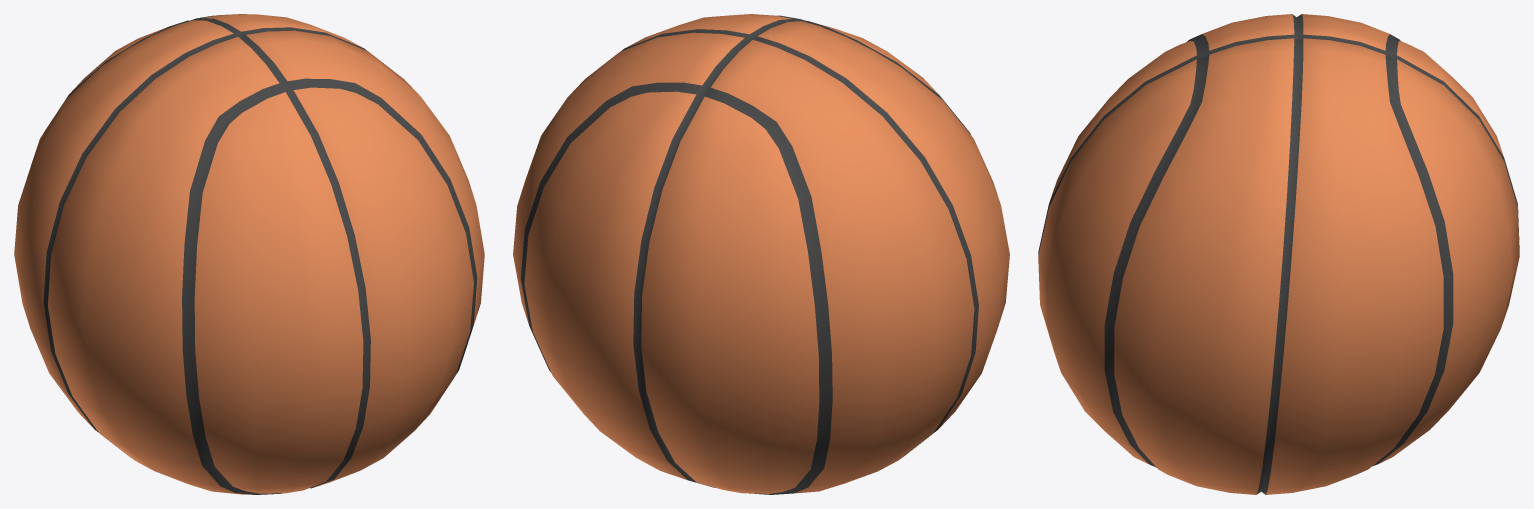
File: basketball 1.fbx
The picture shows the model from 3 angles, left to right: view 1: azimuth 30°, elevation 25°; view 2: azimuth 150°, elevation 25°; view 3: azimuth 270°, elevation 25°; orthographic projection. The views are drawn at different scales.
Visible parts, largest first — view 1: Basketball; view 2: Basketball; view 3: Basketball.
Part boxes in pixels (bbox=[...]): Basketball: bbox=[14, 14, 484, 494]; Basketball: bbox=[513, 14, 1009, 494]; Basketball: bbox=[1038, 14, 1519, 494].
Size of the model in its own units: 194 by 194 by 194.
